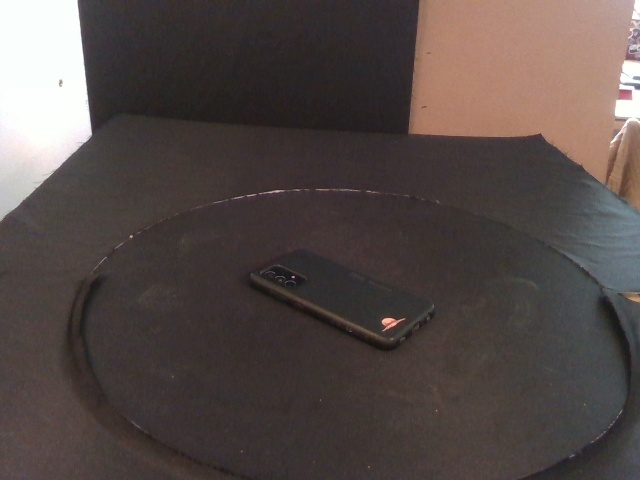phone: (249, 248, 437, 351)
